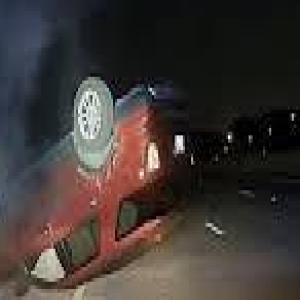fatal: (0, 58, 203, 292)
